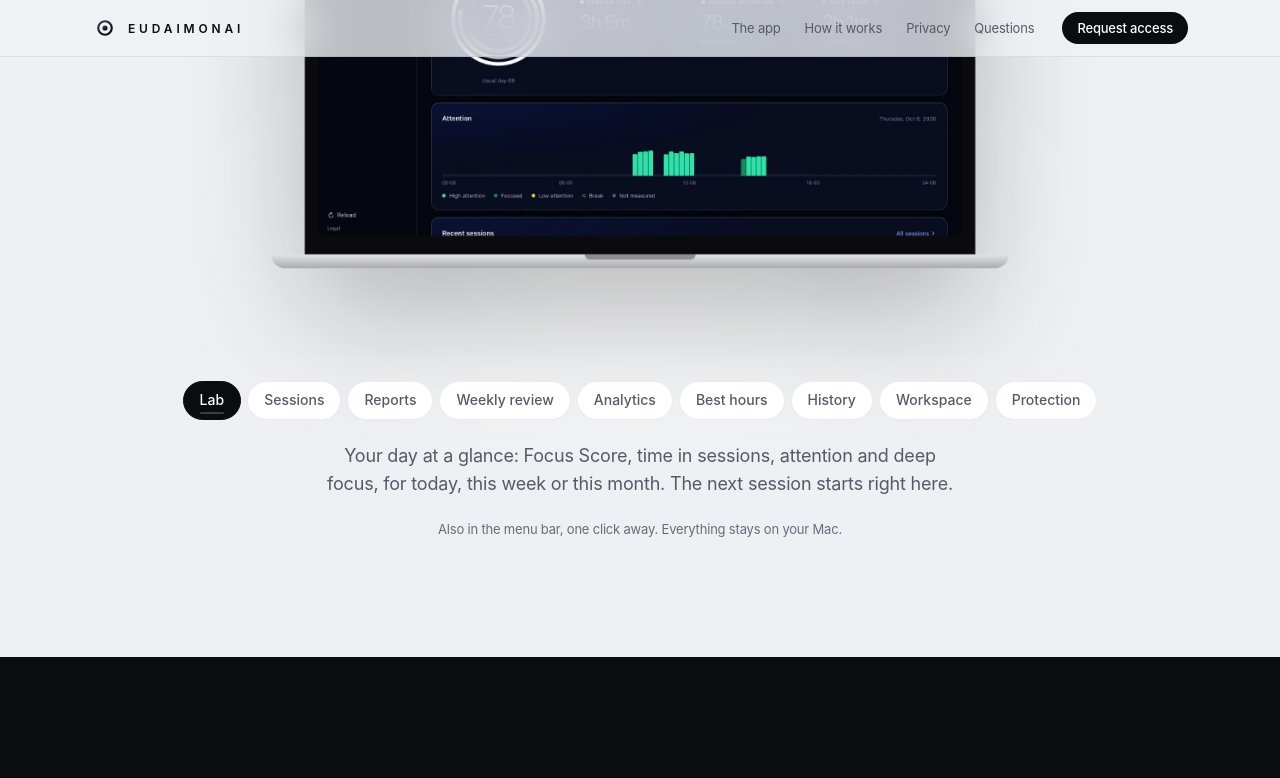
Test case: the landing page explains the app › lets the visitor pick a part of the app, and walks through a session in five steps
This screenshot has width=1280, height=778.
(page scrolled)
Step 1. Click the tab "Reports" → (390, 400), box [347, 381, 434, 420]
(page scrolled)
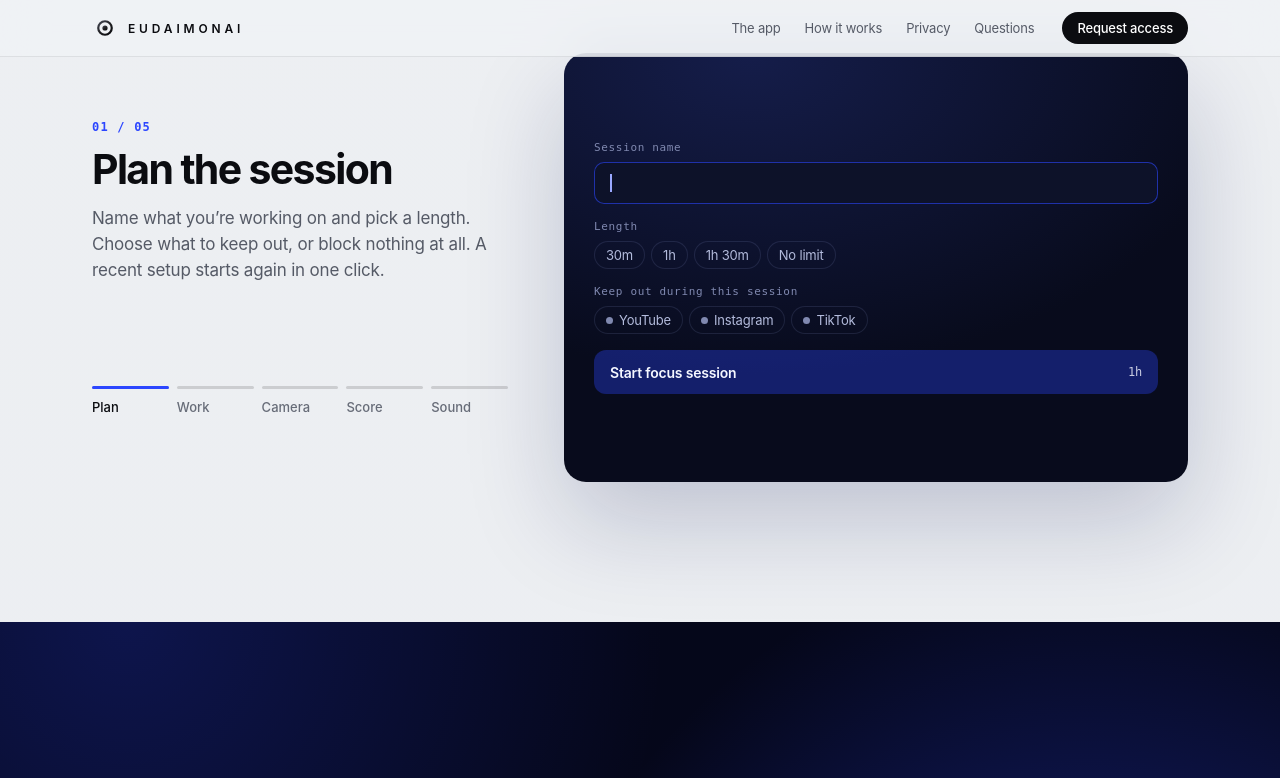
Check: the heading "Plan the session" is shown, box [92, 144, 392, 194]
Step 2. Click the tab "Camera" → (300, 401), box [262, 386, 338, 415]
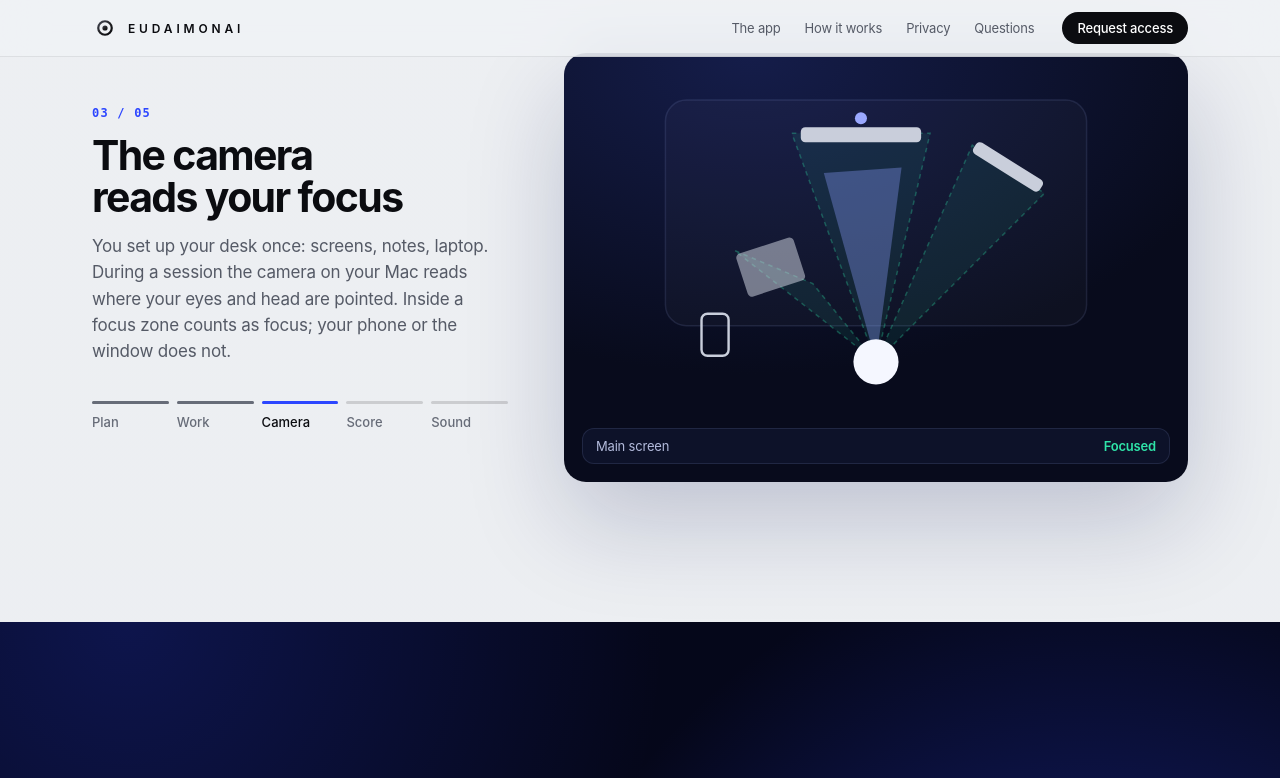
Check: the heading "The camera reads your focus" is shown, box [92, 130, 402, 222]
